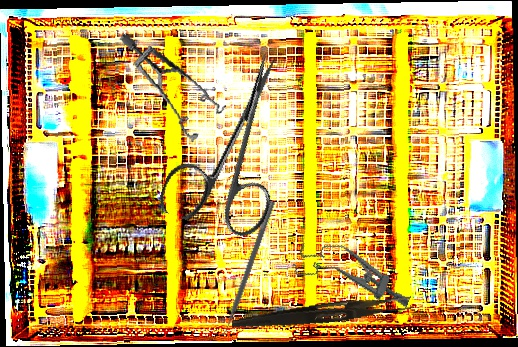Dressing Forceps: (231, 289, 413, 338)
Iris Scissors: (155, 36, 318, 246)
Spatula Surgical: (217, 198, 276, 338)
Speculum: (118, 17, 232, 153), (290, 231, 419, 317)
